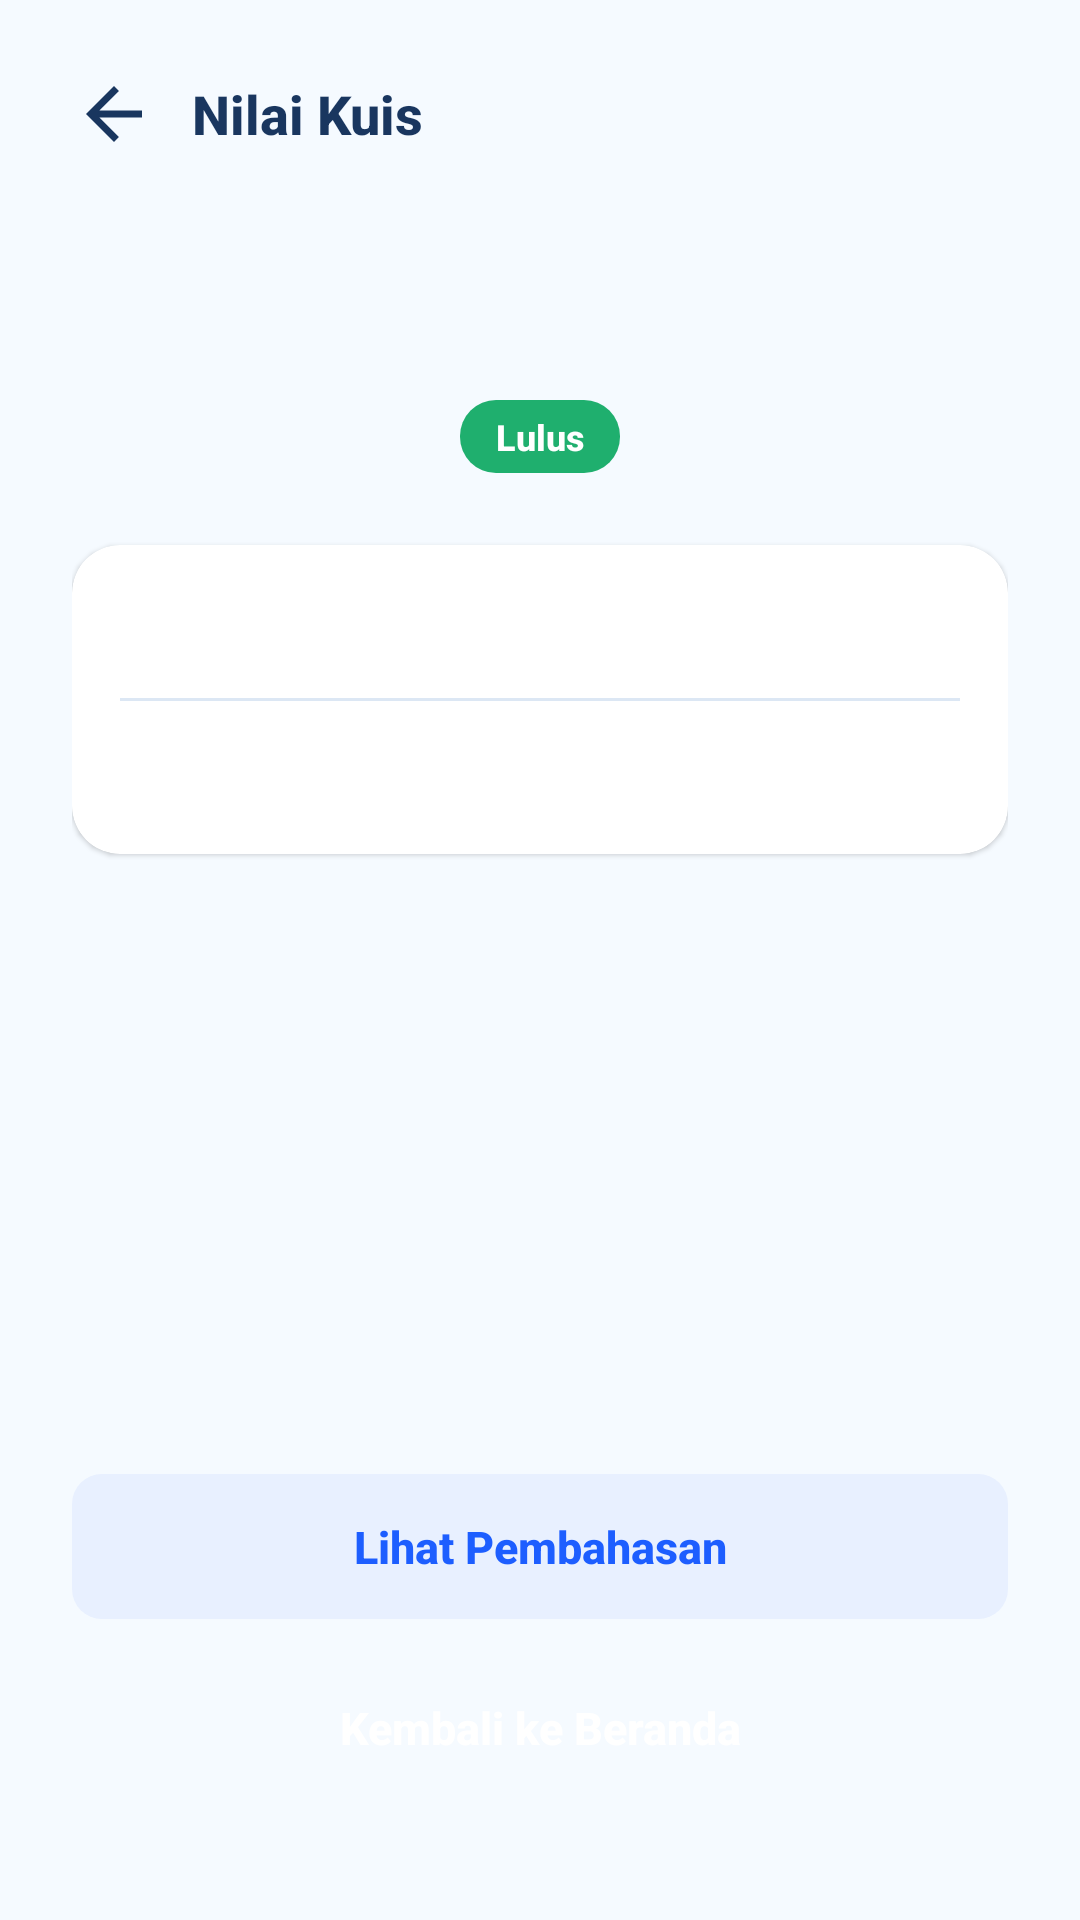

Where icons sit on this 1080px x 1920px app screen, as (x1, y1, x2, y2):
back: (86, 86, 142, 142)
